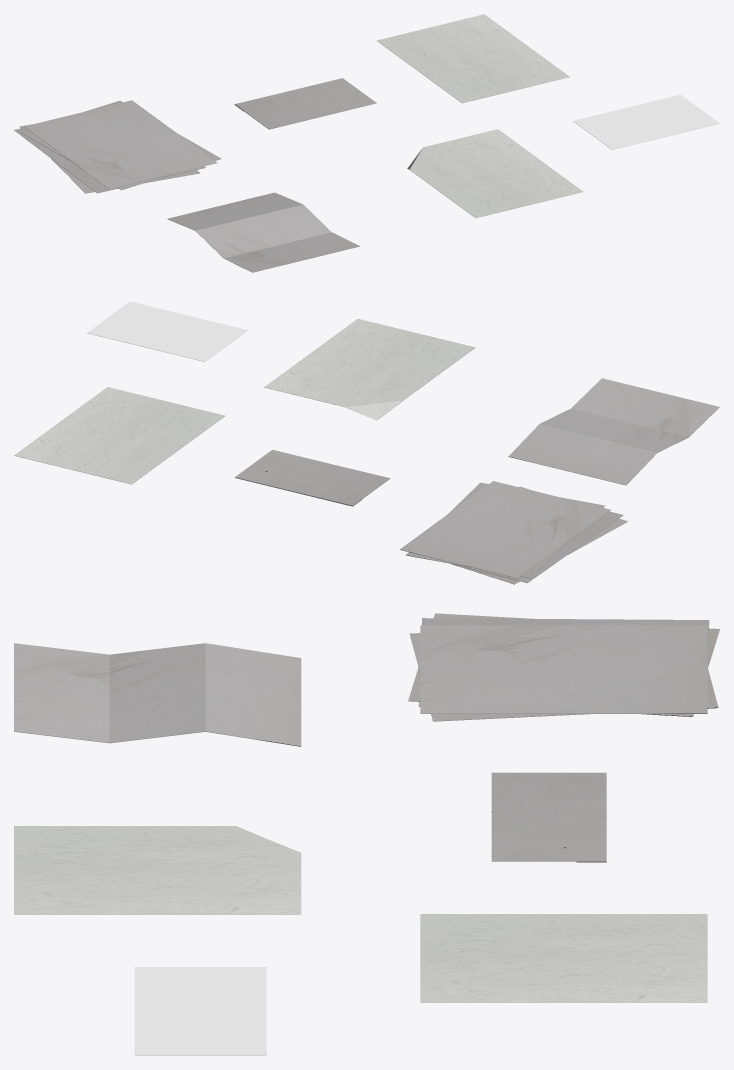
The model's file is paper_envelope.glb.
3 views of the same model, one above another, from view 1: azimuth 30°, elevation 25°; view 2: azimuth 150°, elevation 25°; view 3: azimuth 270°, elevation 25° (orthographic). The views are drawn at different scales.
Parts seen in each view (by area): view 1: paper, papers, letter, bended papers, POstcard, envelope, papers.002, papers.001, papers.003; view 2: bended papers, letter, paper, papers, POstcard, envelope, papers.002, papers.001, papers.003; view 3: bended papers, paper, papers, letter, POstcard, envelope, papers.002, papers.001, papers.003.
Boxes of the visible parts, x1=… form: paper: x1=376, y1=14, x2=569, y2=103; papers: x1=24, y1=100, x2=217, y2=189; letter: x1=407, y1=129, x2=583, y2=217; bended papers: x1=167, y1=192, x2=360, y2=272; POstcard: x1=573, y1=94, x2=719, y2=149; envelope: x1=234, y1=78, x2=376, y2=129; papers.002: x1=14, y1=127, x2=205, y2=193; papers.001: x1=20, y1=100, x2=221, y2=190; papers.003: x1=20, y1=124, x2=199, y2=193; bended papers: x1=508, y1=378, x2=719, y2=485; letter: x1=264, y1=319, x2=475, y2=420; paper: x1=14, y1=387, x2=225, y2=484; papers: x1=399, y1=481, x2=610, y2=578; POstcard: x1=87, y1=301, x2=247, y2=361; envelope: x1=235, y1=449, x2=390, y2=506; papers.002: x1=452, y1=511, x2=623, y2=583; papers.001: x1=406, y1=482, x2=604, y2=578; papers.003: x1=451, y1=486, x2=627, y2=584; bended papers: x1=14, y1=643, x2=301, y2=746; paper: x1=420, y1=914, x2=707, y2=1002; papers: x1=420, y1=625, x2=707, y2=713; letter: x1=14, y1=826, x2=301, y2=914; POstcard: x1=134, y1=967, x2=266, y2=1055; envelope: x1=491, y1=772, x2=606, y2=862; papers.002: x1=418, y1=618, x2=709, y2=706; papers.001: x1=409, y1=620, x2=718, y2=721; papers.003: x1=408, y1=613, x2=719, y2=716.
Bounding box in the file's own units: 10.11 × 0.213 × 6.76.
6 materials, 5 textured.
